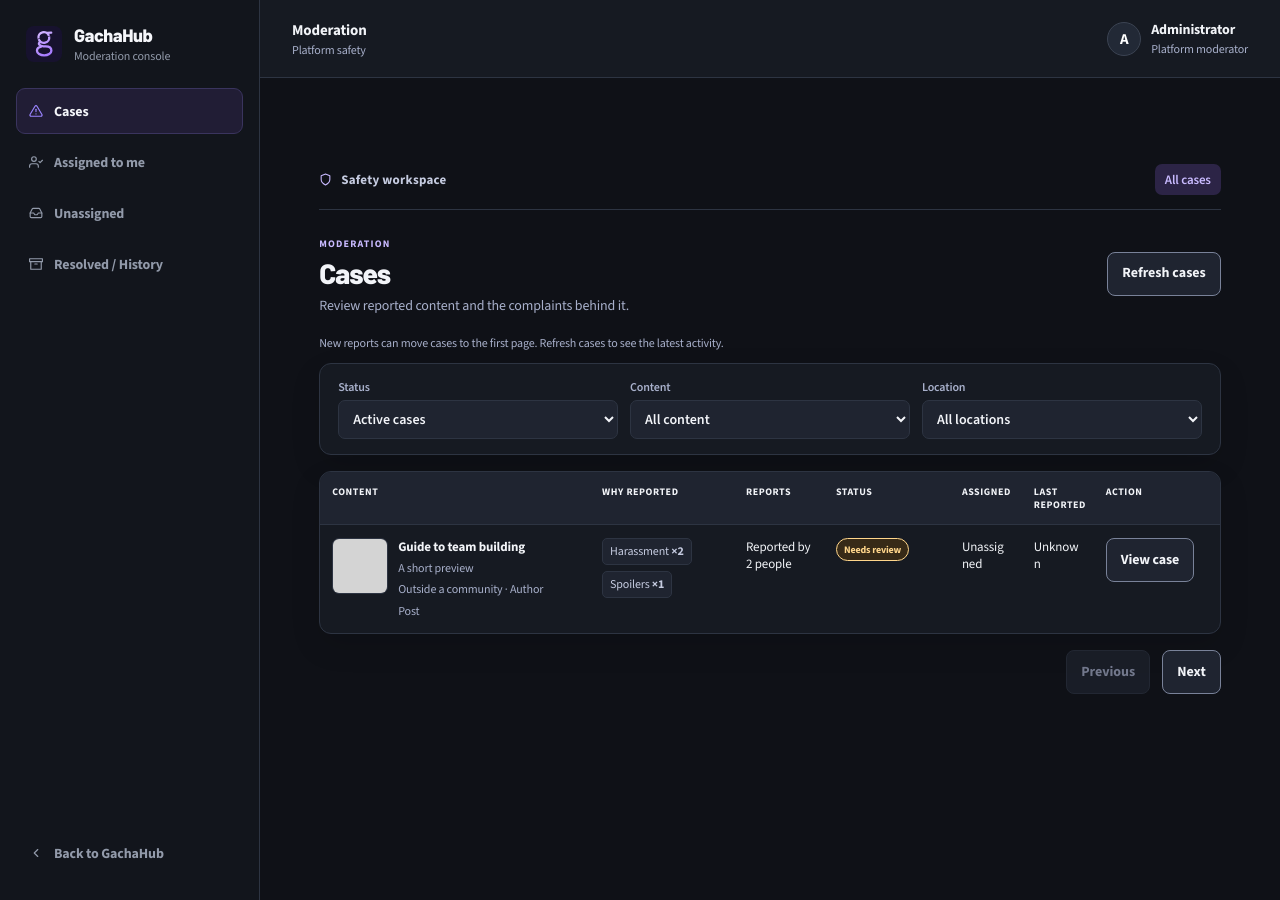
Test: defaults to active cases and refreshes from the first cursor page
The width and height of the screenshot is (1280, 900).
Step 1. Click the button "Next" → (1192, 672), box 1162,650 -> 1221,694
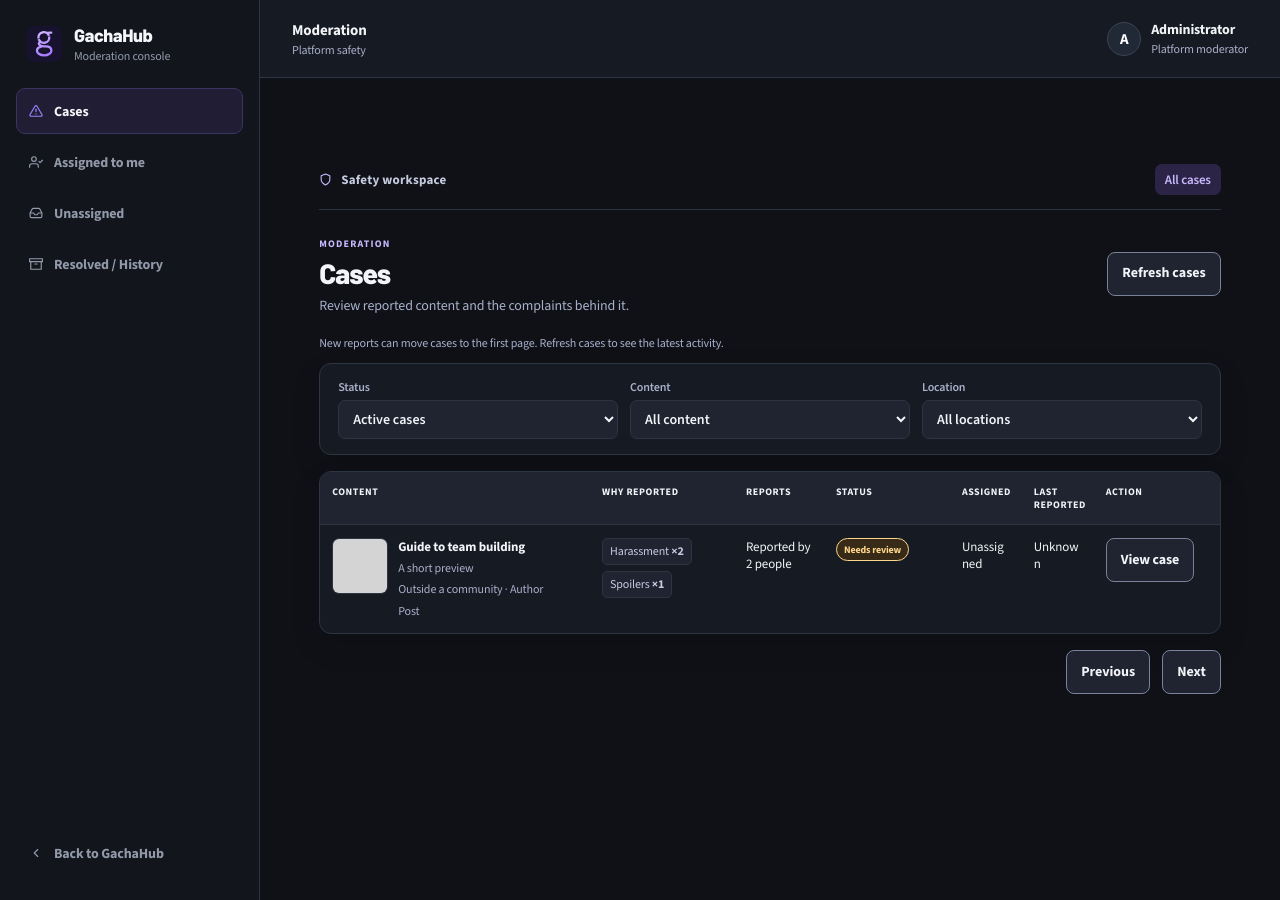
Step 2. Click the button "Refresh cases" → (1164, 274), box 1107,252 -> 1221,296
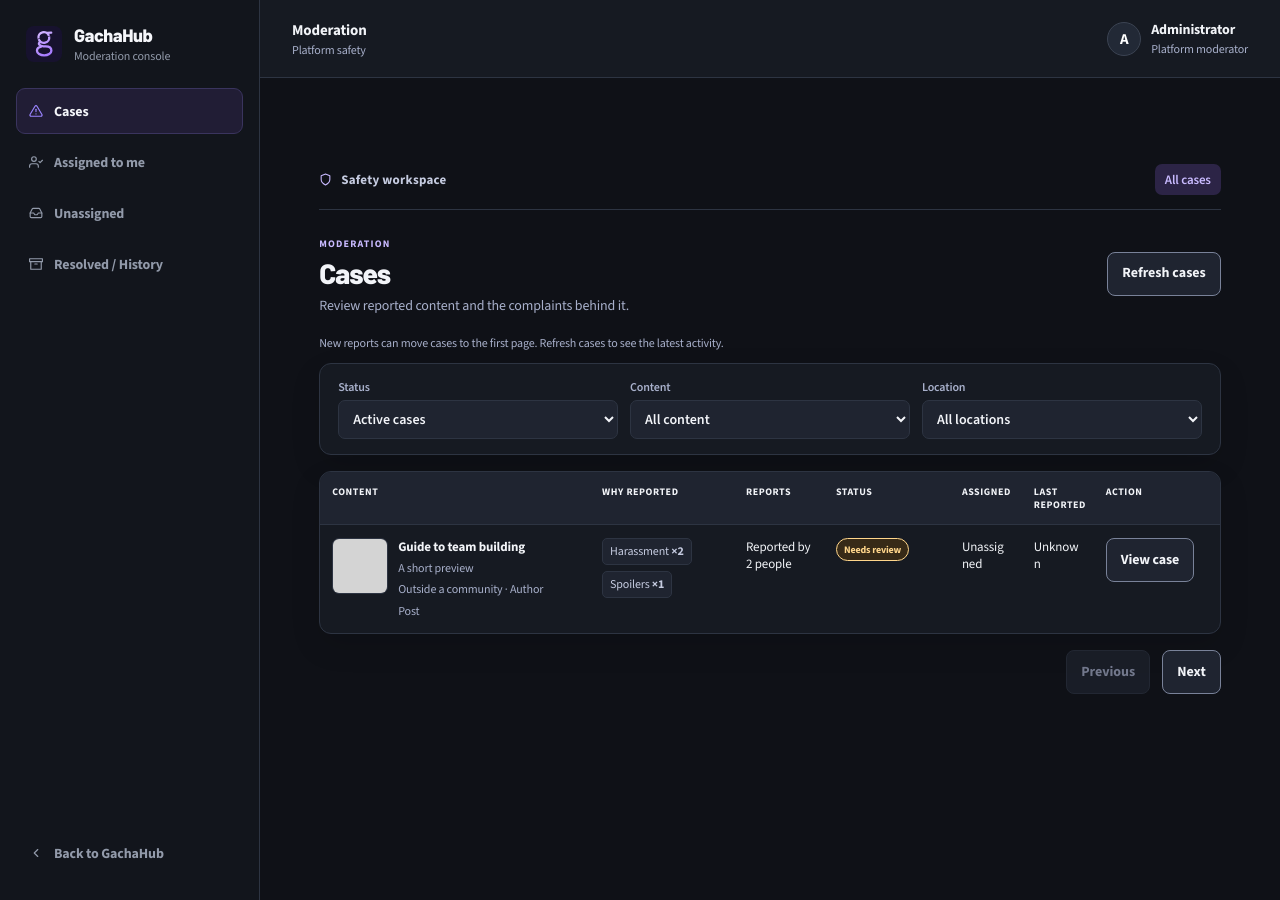
Now the button "Previous" is disabled, box 1066,650 -> 1150,694
